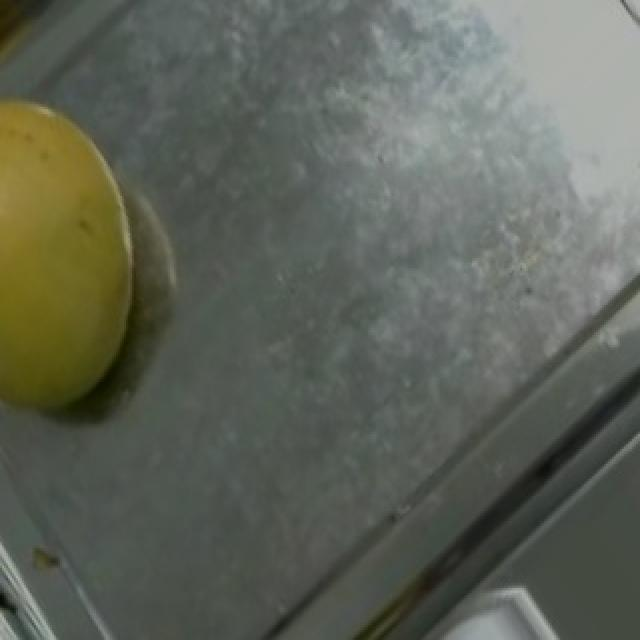fruit: (0, 70, 220, 452)
